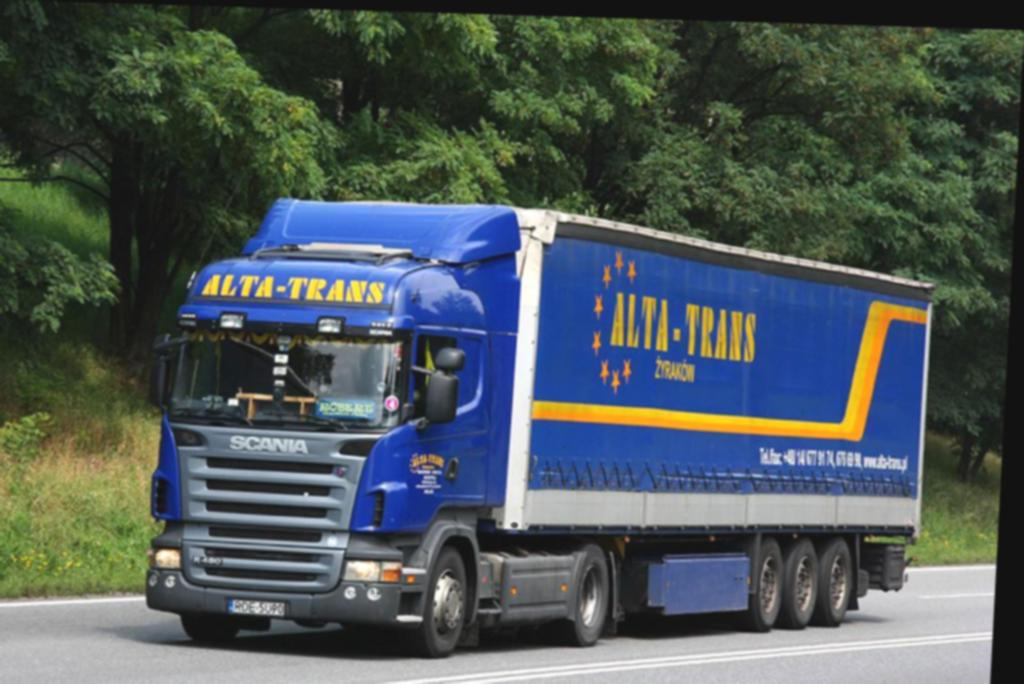License_Plate: (231, 598, 290, 614)
